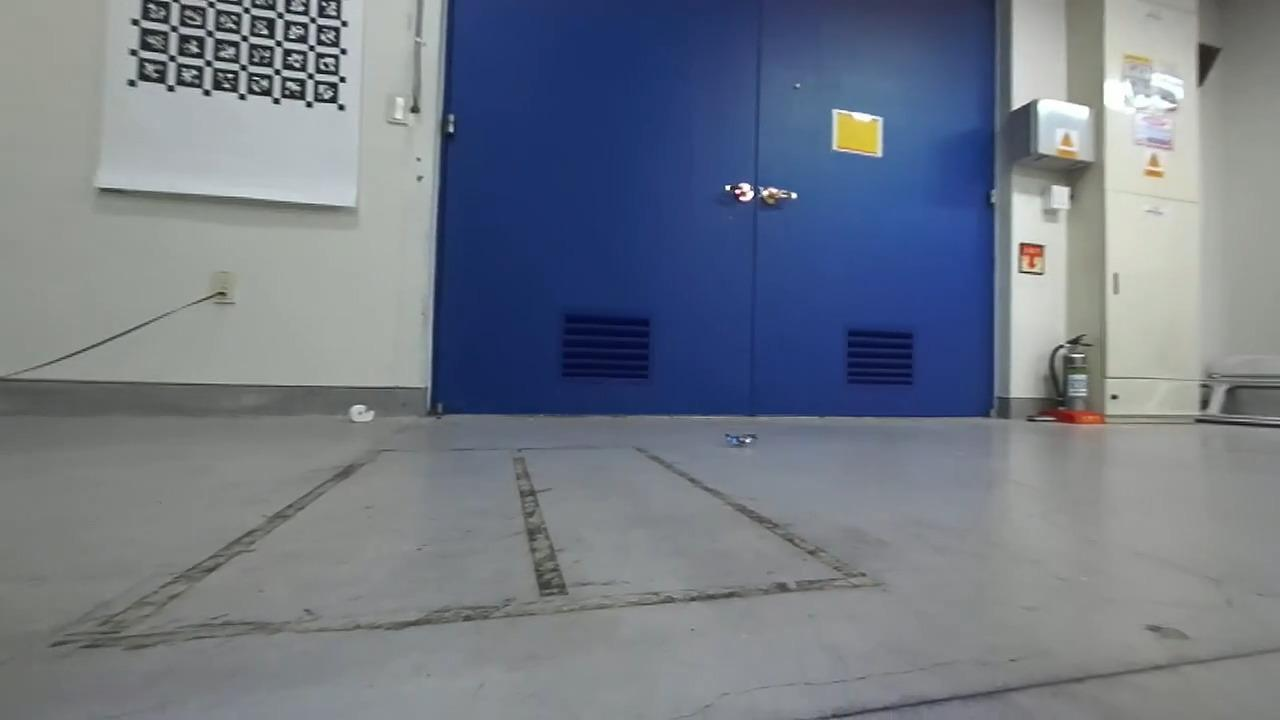crazyflie: (715, 425, 770, 454)
